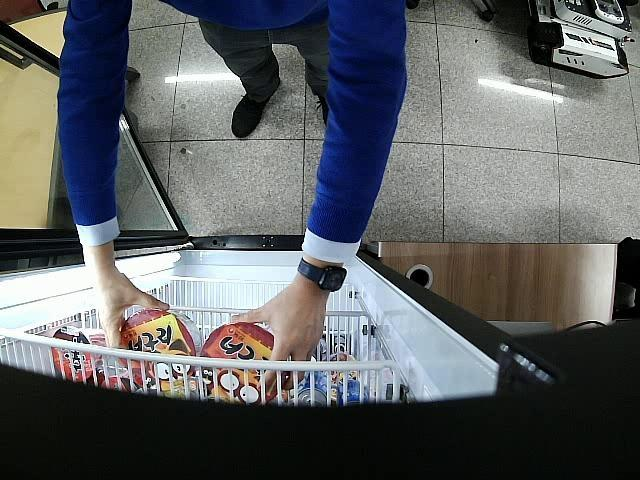05_nuguri_L: (200, 322, 286, 404), (120, 308, 203, 391)
